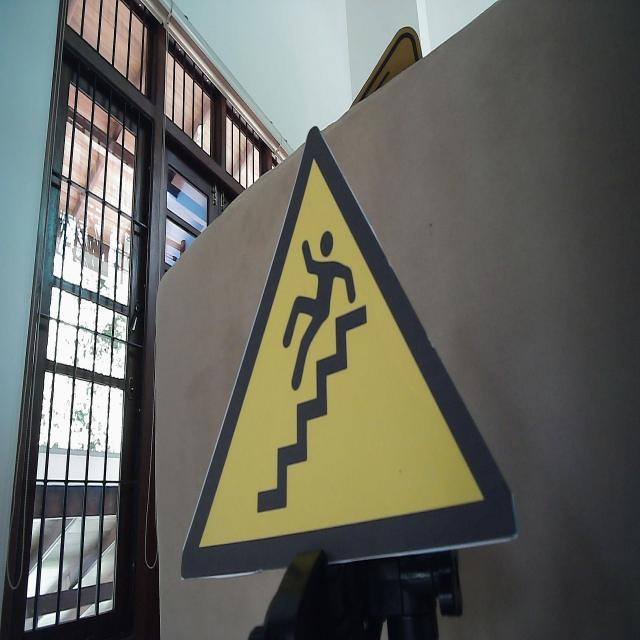stairs: (178, 123, 520, 584)
